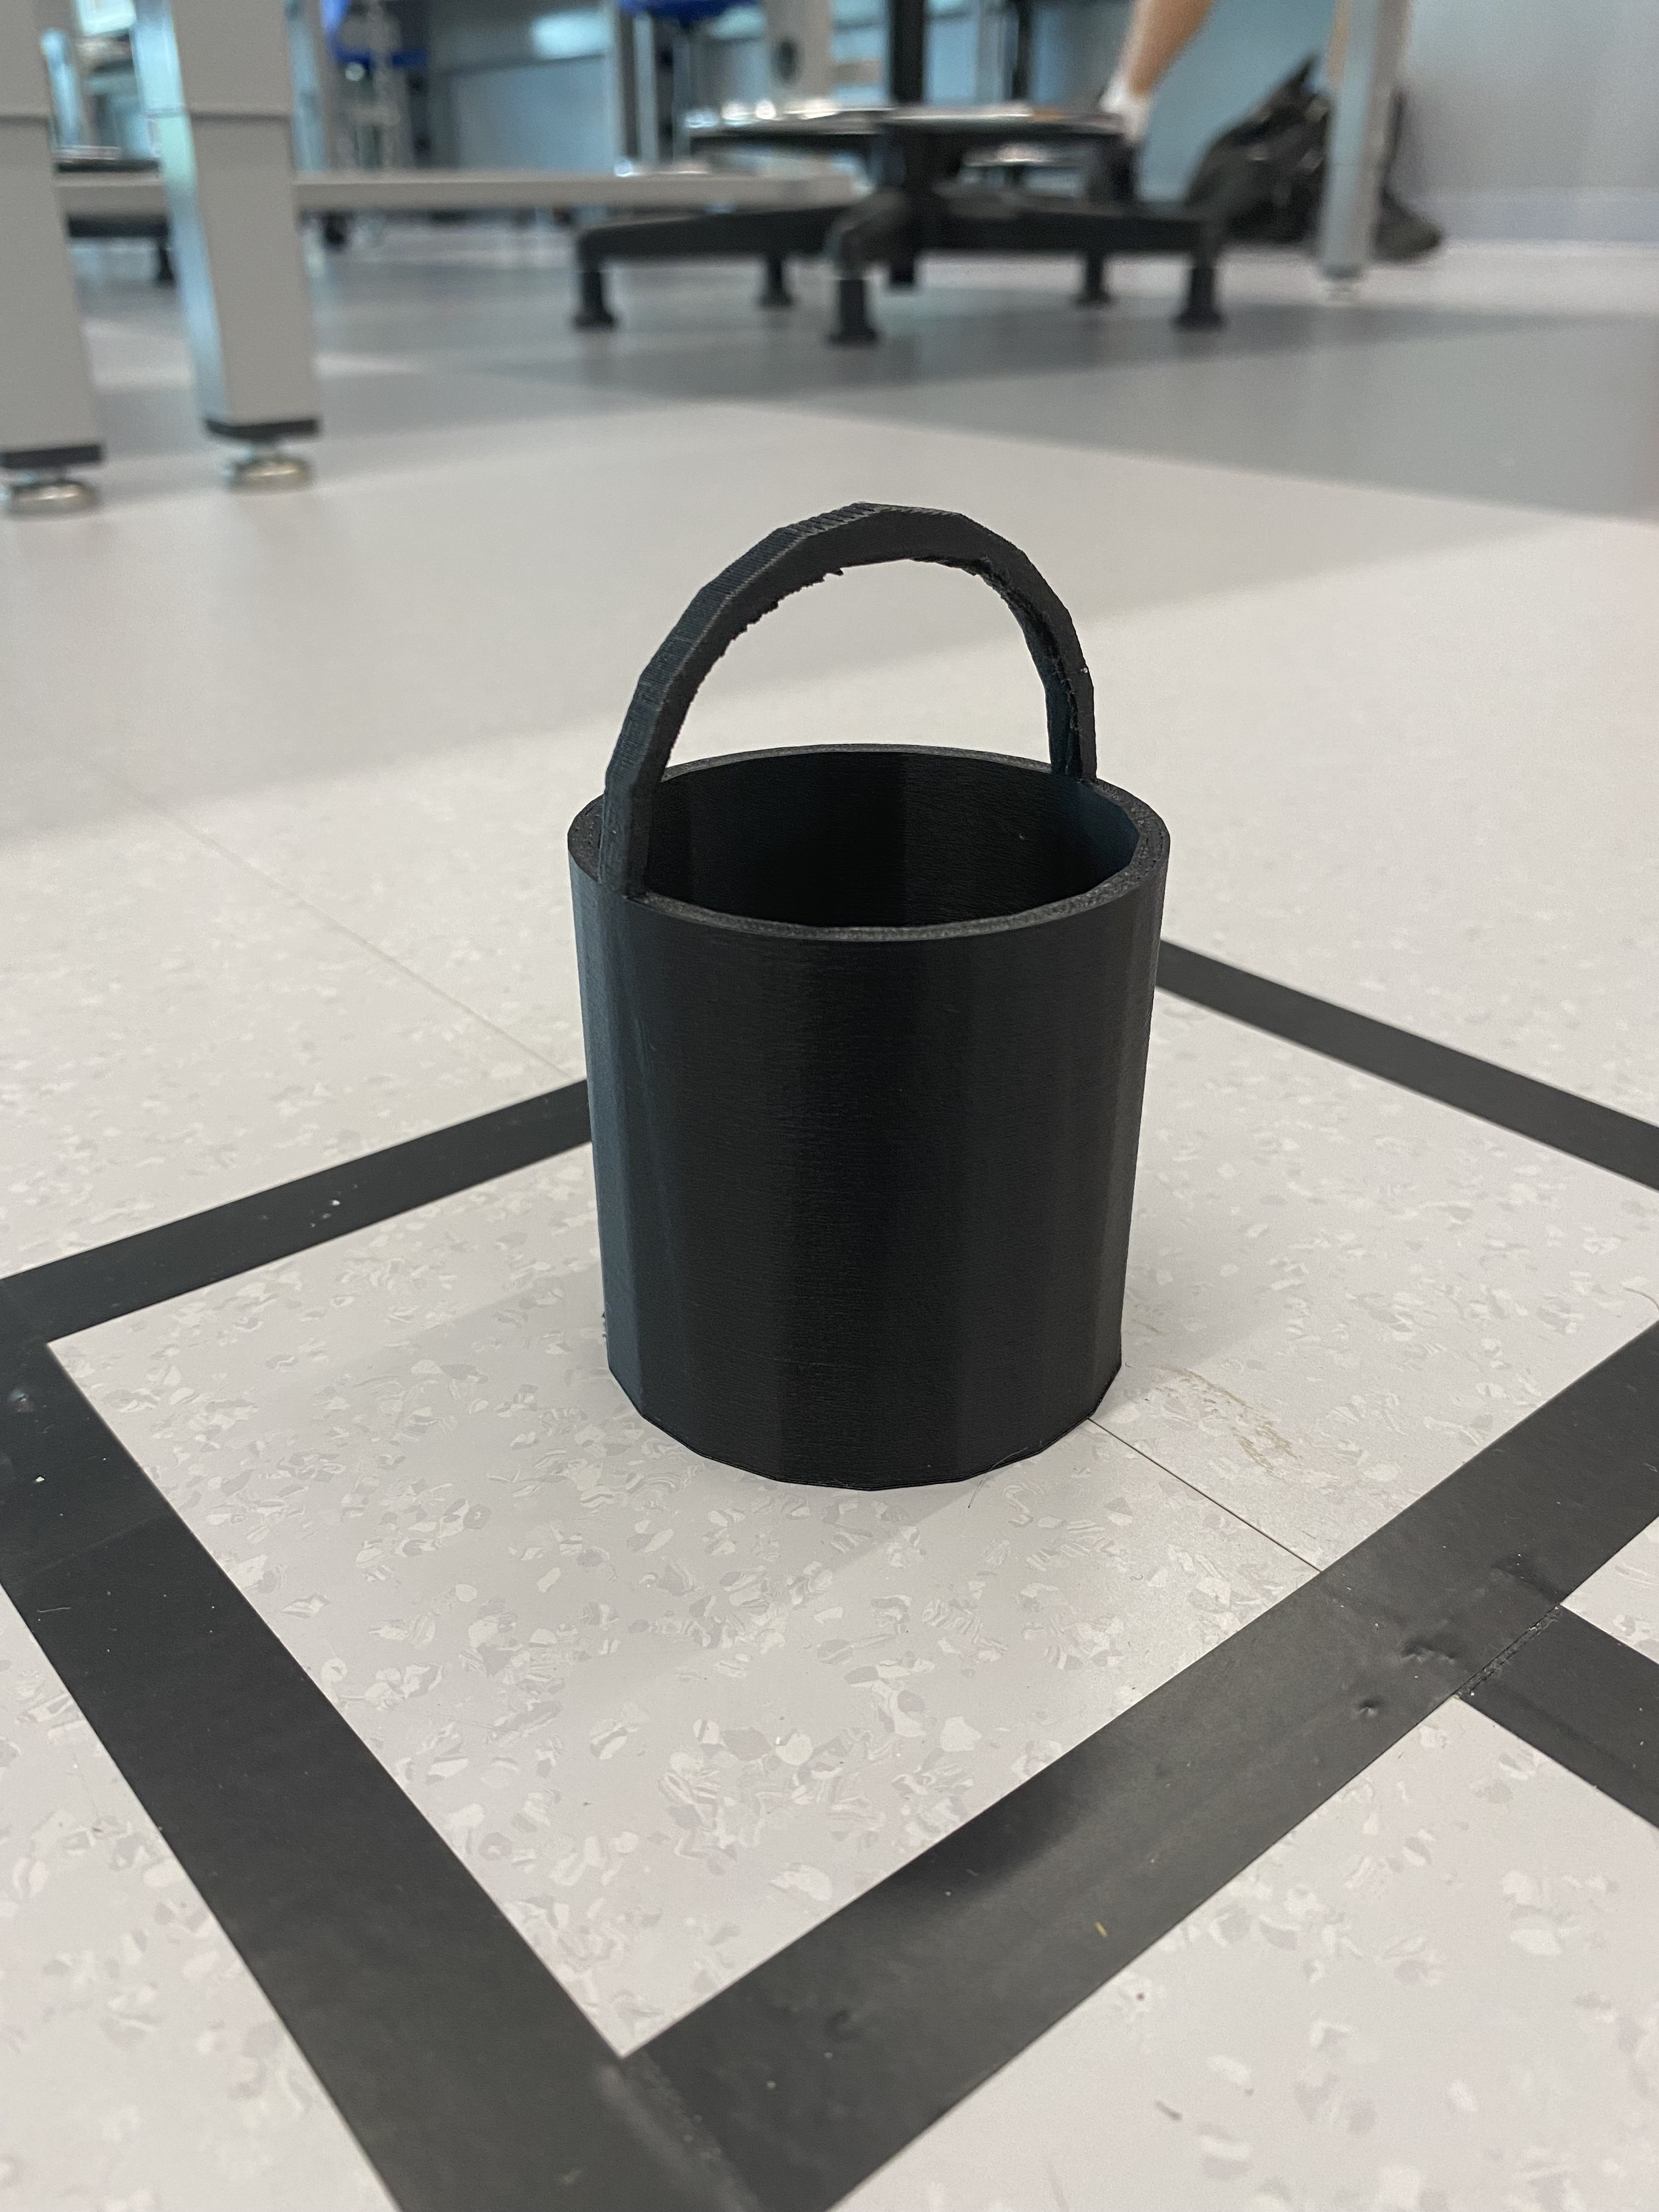bag: (551, 486, 1175, 1498)
